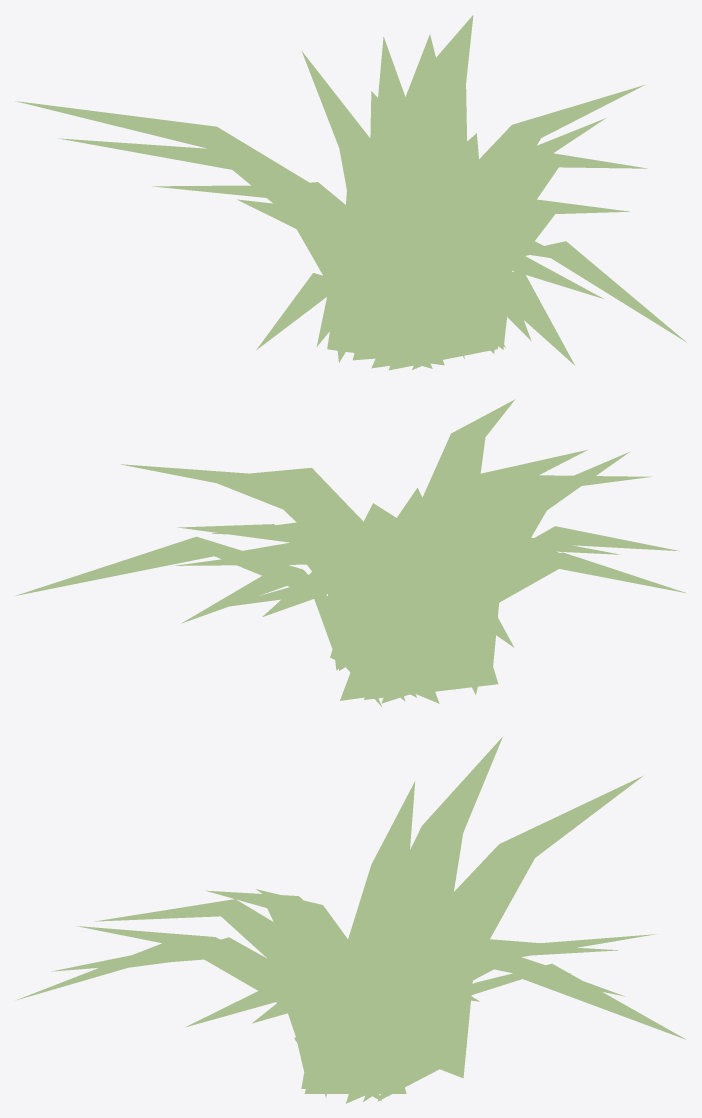
Rendered from Blender_Sedge_1.glb.
3 renders of one model, top to bottom at view 1: azimuth 30°, elevation 25°; view 2: azimuth 150°, elevation 25°; view 3: azimuth 270°, elevation 25°, orthographic. The views are drawn at different scales.
Visible parts, largest first — view 1: Blender_Sedge_1; view 2: Blender_Sedge_1; view 3: Blender_Sedge_1.
Part boxes in pixels (x1,y1,x2,y2): Blender_Sedge_1: (15, 15, 686, 370); Blender_Sedge_1: (15, 399, 686, 706); Blender_Sedge_1: (16, 737, 686, 1103).
Bounding box in the file's own units: 0.7927 × 0.2993 × 0.9016.
